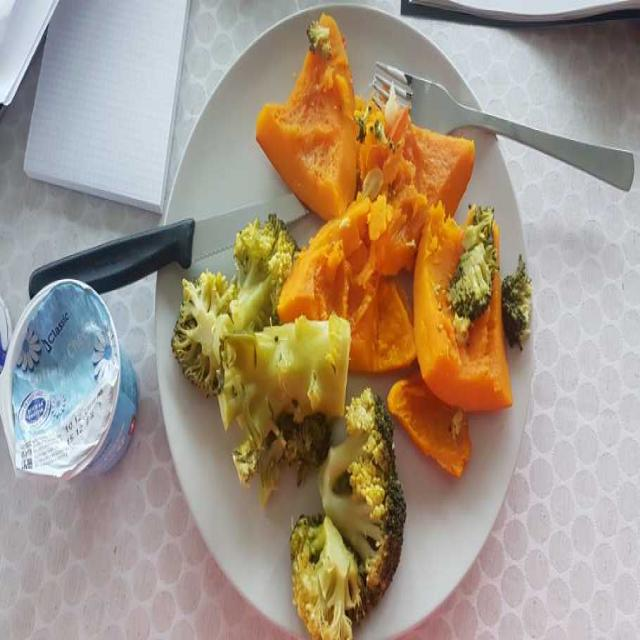broccoli: (175, 205, 530, 640)
pumpkin: (263, 23, 512, 467)
